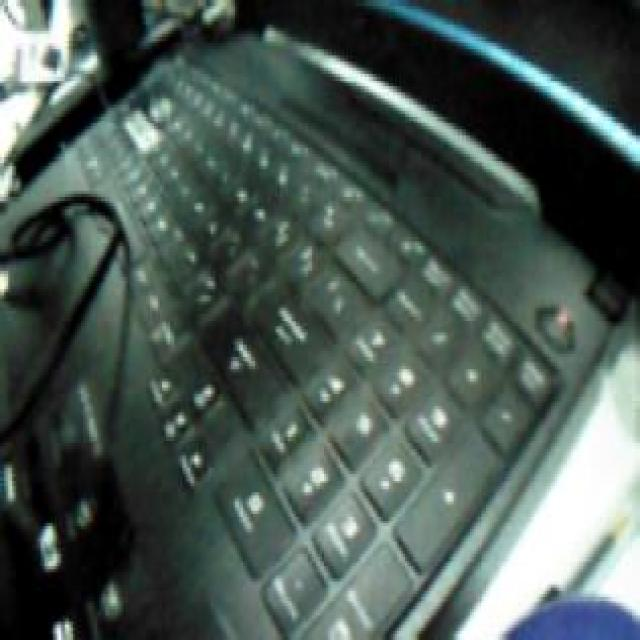BallPurple: (496, 591, 640, 640)
